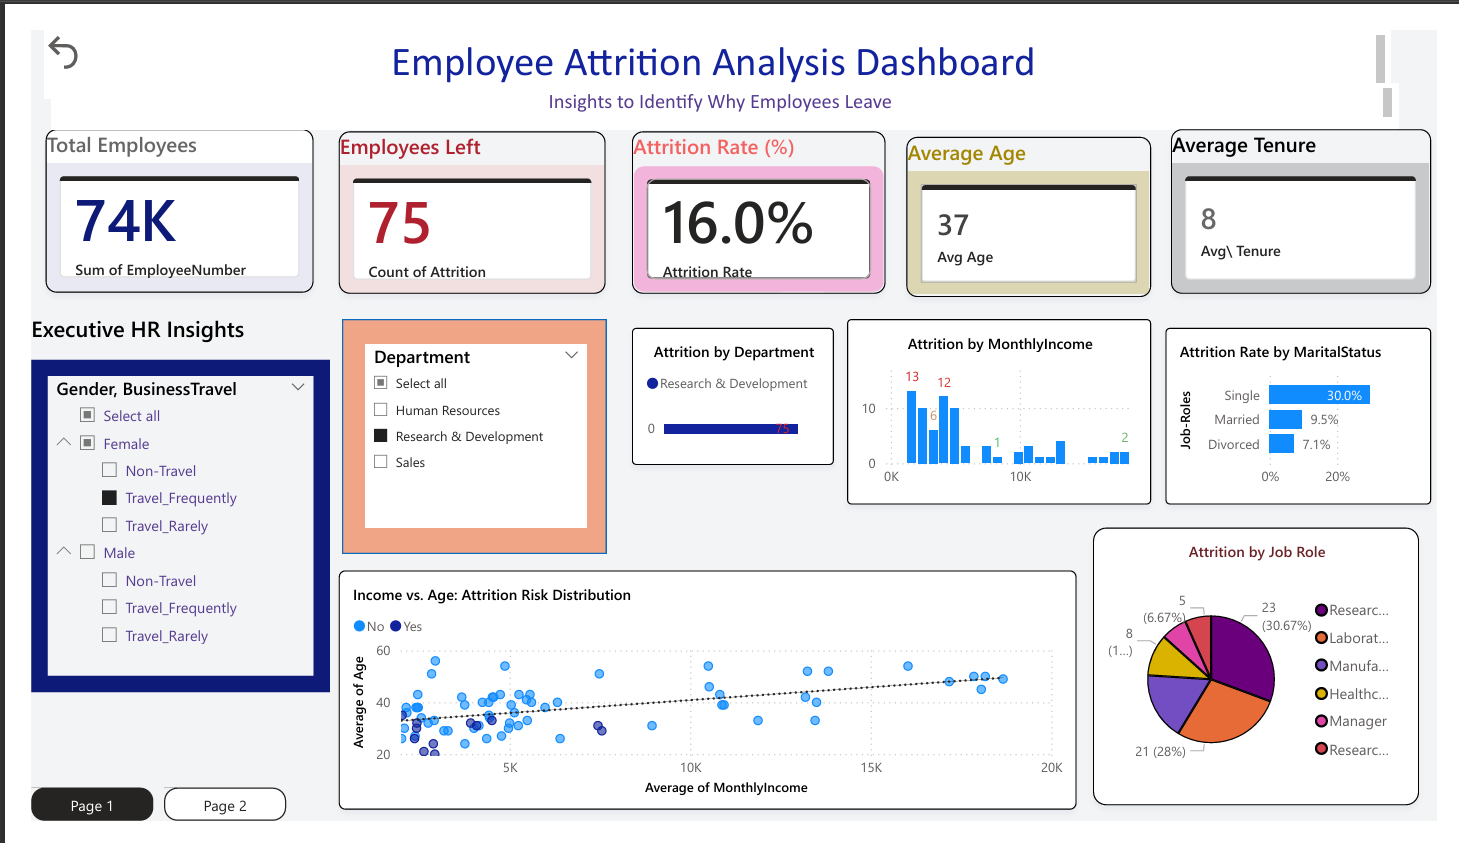

This screenshot's page, from the dashboard's own definition file:
{"tool":"powerbi","page":{"name":"Page 1","canvas":[1280,720],"ordinal":0},"visuals":[{"type":"cardVisual","title":"Total Employees","fields":{"Data":["Sum(WA_Fn-UseC_-HR-Employee-Attrition.EmployeeNumber)"]},"box":[12.9,90,244.3,148.6],"z":0},{"type":"cardVisual","title":"Employees Left","fields":{"Data":["CountNonNull(WA_Fn-UseC_-HR-Employee-Attrition.Attrition)"]},"box":[280,91.7,243.3,148.3],"z":1000},{"type":"barChart","title":" Attrition by Department","fields":{"Category":["WA_Fn-UseC_-HR-Employee-Attrition.Attrition Count"],"Series":["WA_Fn-UseC_-HR-Employee-Attrition.Department"],"Y":["CountNonNull(WA_Fn-UseC_-HR-Employee-Attrition.Department)"]},"box":[546.6,271.5,184.6,124.7],"z":2000},{"type":"columnChart","title":"Attrition by MonthlyIncome","fields":{"Category":["WA_Fn-UseC_-HR-Employee-Attrition.MonthlyIncome (bins)"],"Y":["CountNonNull(WA_Fn-UseC_-HR-Employee-Attrition.Attrition)"]},"box":[743.5,262.9,276.4,168.8],"z":3000},{"type":"slicer","fields":{"Values":["WA_Fn-UseC_-HR-Employee-Attrition.Gender","WA_Fn-UseC_-HR-Employee-Attrition.BusinessTravel"]},"box":[0,300,271.7,303.3],"z":4000},{"type":"textbox","box":[681.7,211.7,40,28.3],"z":5000},{"type":"textbox","box":[11.7,0,1226.7,61.7],"z":6000},{"type":"textbox","box":[18.3,48.3,1226.7,41.7],"z":7000},{"type":"cardVisual","title":"Attrition Rate (%)","fields":{"Data":["WA_Fn-UseC_-HR-Employee-Attrition.Attrition Rate"]},"box":[546.7,91.7,231.7,148.3],"z":8000},{"type":"pieChart","title":"Attrition by Job Role","fields":{"Category":["WA_Fn-UseC_-HR-Employee-Attrition.JobRole"],"Y":["CountNonNull(WA_Fn-UseC_-HR-Employee-Attrition.Attrition)"]},"box":[967.1,452.9,297.1,252.9],"z":9000},{"type":"cardVisual","title":"Average Age","fields":{"Data":["WA_Fn-UseC_-HR-Employee-Attrition.Avg Age"]},"box":[796.7,96.7,223.3,146.7],"z":10000},{"type":"cardVisual","title":"Average Tenure","fields":{"Data":["WA_Fn-UseC_-HR-Employee-Attrition.$$Avg\\ Tenure"]},"box":[1038.3,90,236.7,150],"z":11000},{"type":"clusteredBarChart","fields":{"Y":["WA_Fn-UseC_-HR-Employee-Attrition.Attrition Rate"],"Category":["WA_Fn-UseC_-HR-Employee-Attrition.MaritalStatus"]},"box":[1033.3,271.5,242.1,160.2],"z":12000},{"type":"shape","title":"Executive HR Insights","box":[0,256.8,253.1,29.3],"z":13000},{"type":"shape","box":[282.9,262.9,241.4,214.3],"z":14000},{"type":"slicer","fields":{"Values":["WA_Fn-UseC_-HR-Employee-Attrition.Department"]},"box":[304.3,285.7,201.4,167.1],"z":15000},{"type":"scatterChart","title":"Income vs. Age: Attrition Risk Distribution","fields":{"X":["Avg(WA_Fn-UseC_-HR-Employee-Attrition.MonthlyIncome)"],"Y":["WA_Fn-UseC_-HR-Employee-Attrition.Age"],"Series":["WA_Fn-UseC_-HR-Employee-Attrition.Attrition"],"Category":["WA_Fn-UseC_-HR-Employee-Attrition.EmployeeNumber"]},"box":[280,491.7,671.7,218.3],"z":16000},{"type":"actionButton","box":[8.8,0,50,40],"z":17000},{"type":"pageNavigator","box":[0,690,232.5,30],"z":18000}]}

Visuals, with their boxes in screenshot pixels (x1, y1, x2, y2), scaled from the page's 1280x720 canvas onto the 1459x843 screenshot:
"Total Employees" cardVisual: left=15, top=105, right=293, bottom=279
"Employees Left" cardVisual: left=319, top=107, right=596, bottom=281
" Attrition by Department" barChart: left=623, top=318, right=833, bottom=464
"Attrition by MonthlyIncome" columnChart: left=847, top=308, right=1163, bottom=505
slicer - WA_Fn-UseC_-HR-Employee-Attrition.Gender x WA_Fn-UseC_-HR-Employee-Attrition.BusinessTravel: left=0, top=351, right=310, bottom=706
textbox: left=777, top=248, right=823, bottom=281
textbox: left=13, top=0, right=1412, bottom=72
textbox: left=21, top=57, right=1419, bottom=105
"Attrition Rate (%)" cardVisual: left=623, top=107, right=887, bottom=281
"Attrition by Job Role" pieChart: left=1102, top=530, right=1441, bottom=826
"Average Age" cardVisual: left=908, top=113, right=1163, bottom=285
"Average Tenure" cardVisual: left=1183, top=105, right=1453, bottom=281
clusteredBarChart - WA_Fn-UseC_-HR-Employee-Attrition.Attrition Rate x WA_Fn-UseC_-HR-Employee-Attrition.MaritalStatus: left=1178, top=318, right=1454, bottom=505
"Executive HR Insights" shape: left=0, top=301, right=288, bottom=335
shape: left=322, top=308, right=598, bottom=559
slicer - WA_Fn-UseC_-HR-Employee-Attrition.Department: left=347, top=335, right=576, bottom=530
"Income vs. Age: Attrition Risk Distribution" scatterChart: left=319, top=576, right=1085, bottom=831
actionButton: left=10, top=0, right=67, bottom=47
pageNavigator: left=0, top=808, right=265, bottom=842
